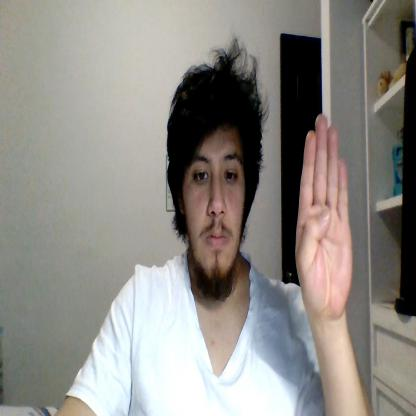B: (295, 113, 352, 318)
